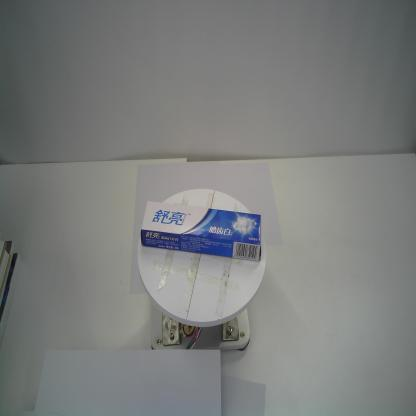Personal Hygiene: (140, 199, 262, 260)
